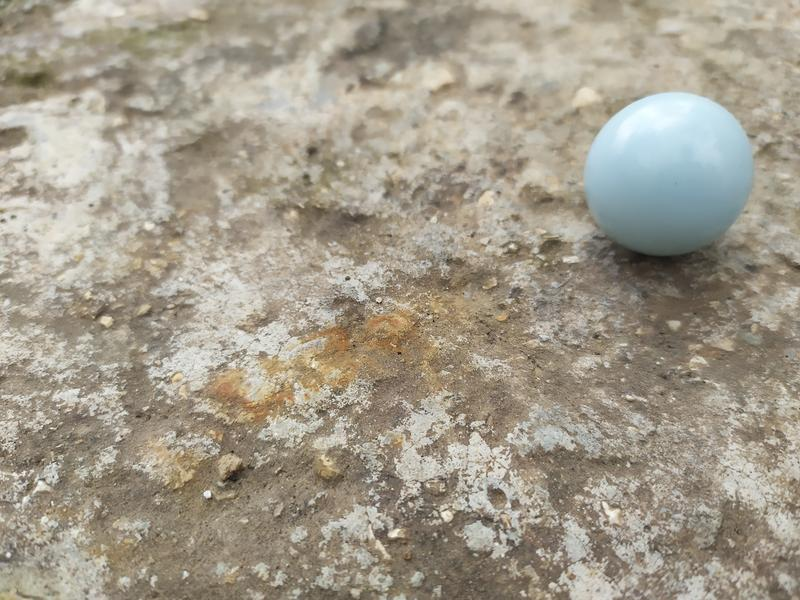Warning: (581, 89, 759, 261)
